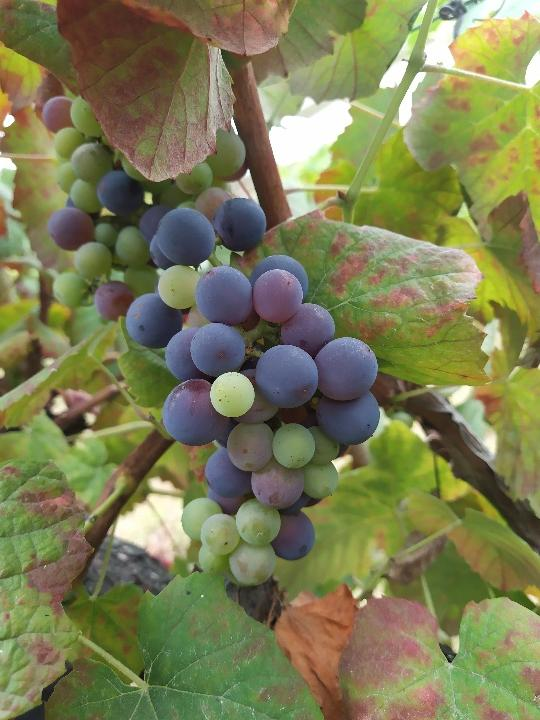grape: (121, 195, 384, 589)
